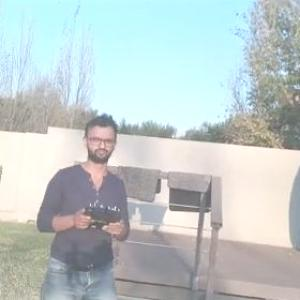follow: (23, 106, 130, 299)
